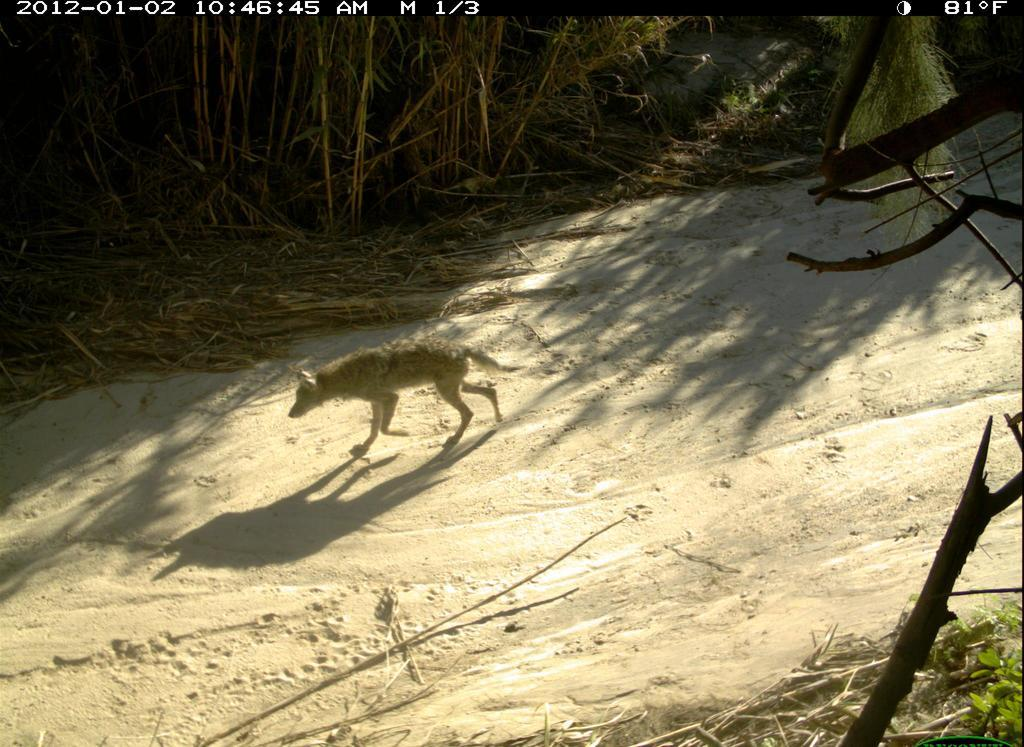coyote: (286, 337, 530, 468)
